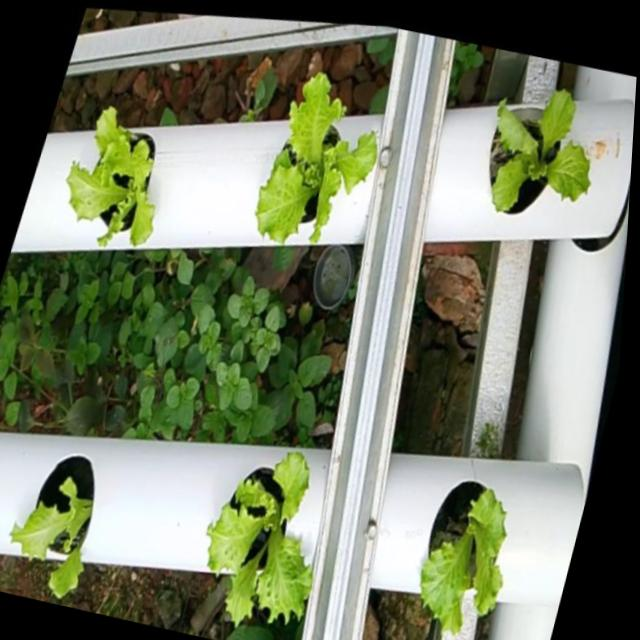Baby: (256, 74, 377, 246), (208, 452, 313, 634), (421, 481, 506, 634), (489, 89, 591, 216), (67, 108, 155, 248), (11, 455, 95, 597)
